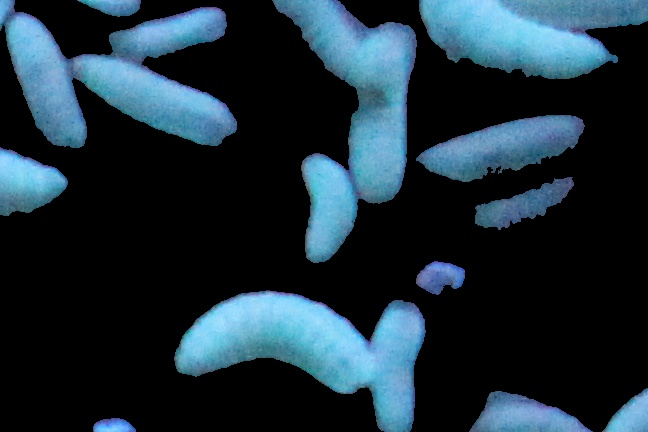larvae: (173, 287, 372, 389), (407, 1, 615, 81), (73, 53, 239, 146), (346, 23, 416, 204), (416, 112, 585, 181), (3, 11, 87, 147), (462, 164, 597, 248), (268, 1, 377, 90), (365, 300, 427, 432), (300, 147, 359, 263), (108, 8, 224, 58), (1, 148, 70, 215)
